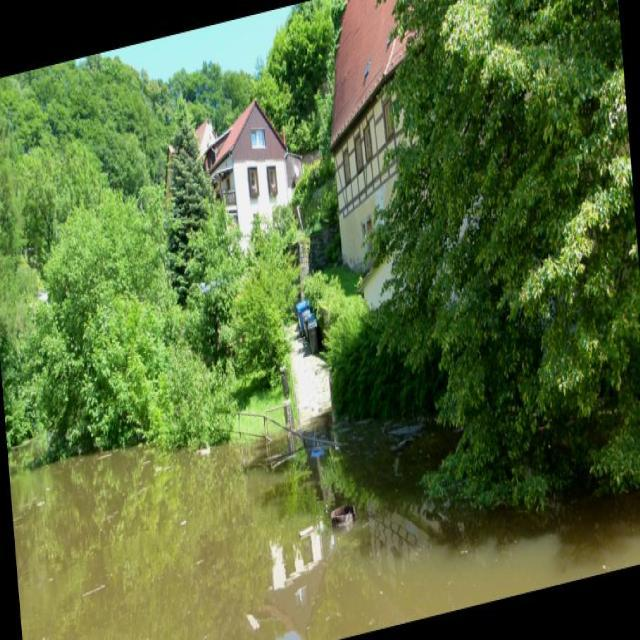flood: (9, 361, 438, 639)
